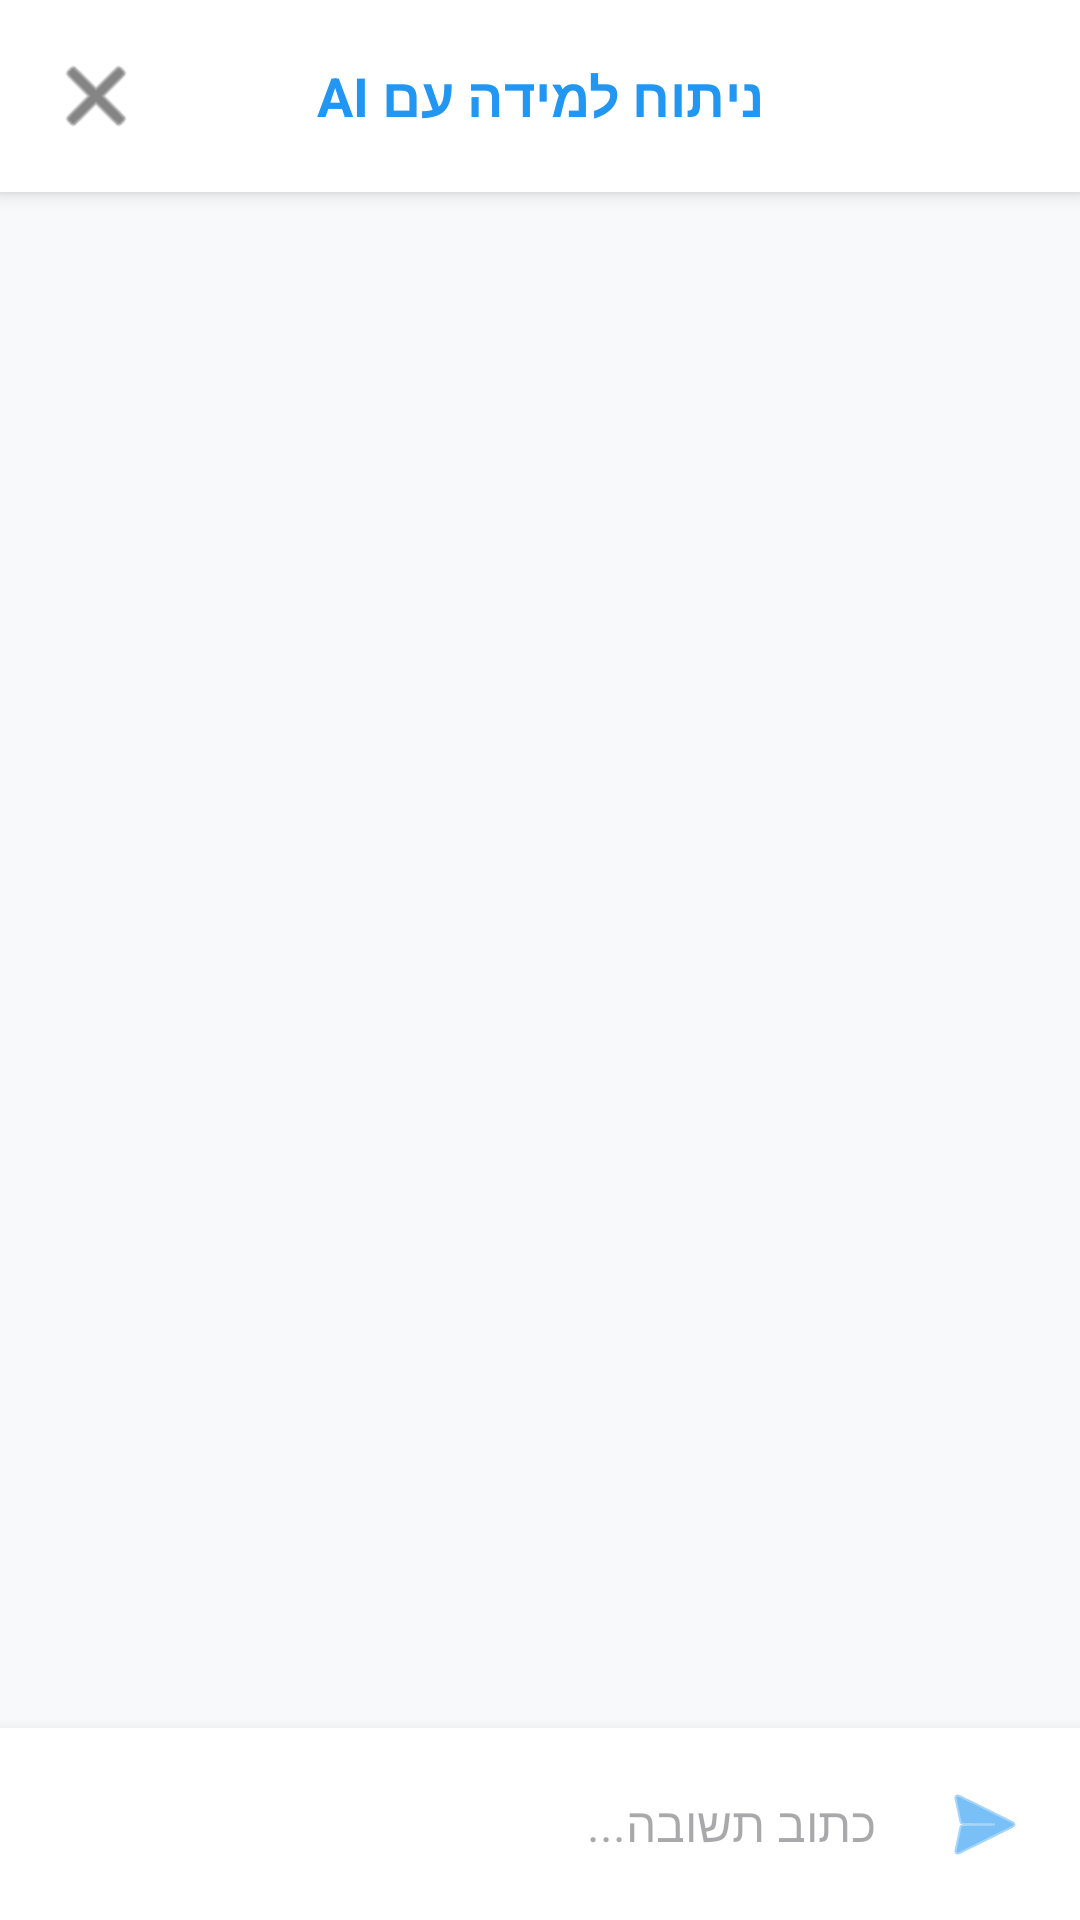

Named icons in this screenshot (1080w x 1920h) and their centers, [x,y]:
close clear cancel: [96,96]
send: [985,1824]
